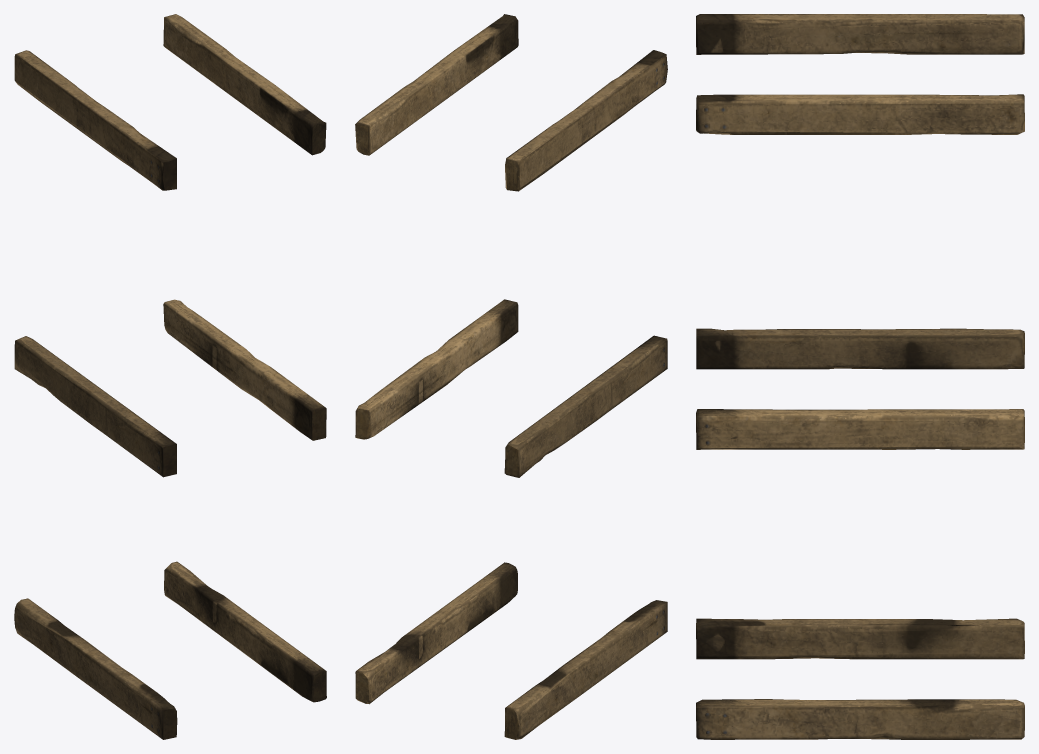
File: Workbench_Group_5_low.obj
3 renders of one model, left to right at view 1: azimuth 30°, elevation 25°; view 2: azimuth 150°, elevation 25°; view 3: azimuth 270°, elevation 25°, orthographic. The views are drawn at different scales.
Size of the model in its own units: 0.5637 by 1.9 by 0.8864.
Materials: 1 (1 with a texture image).
